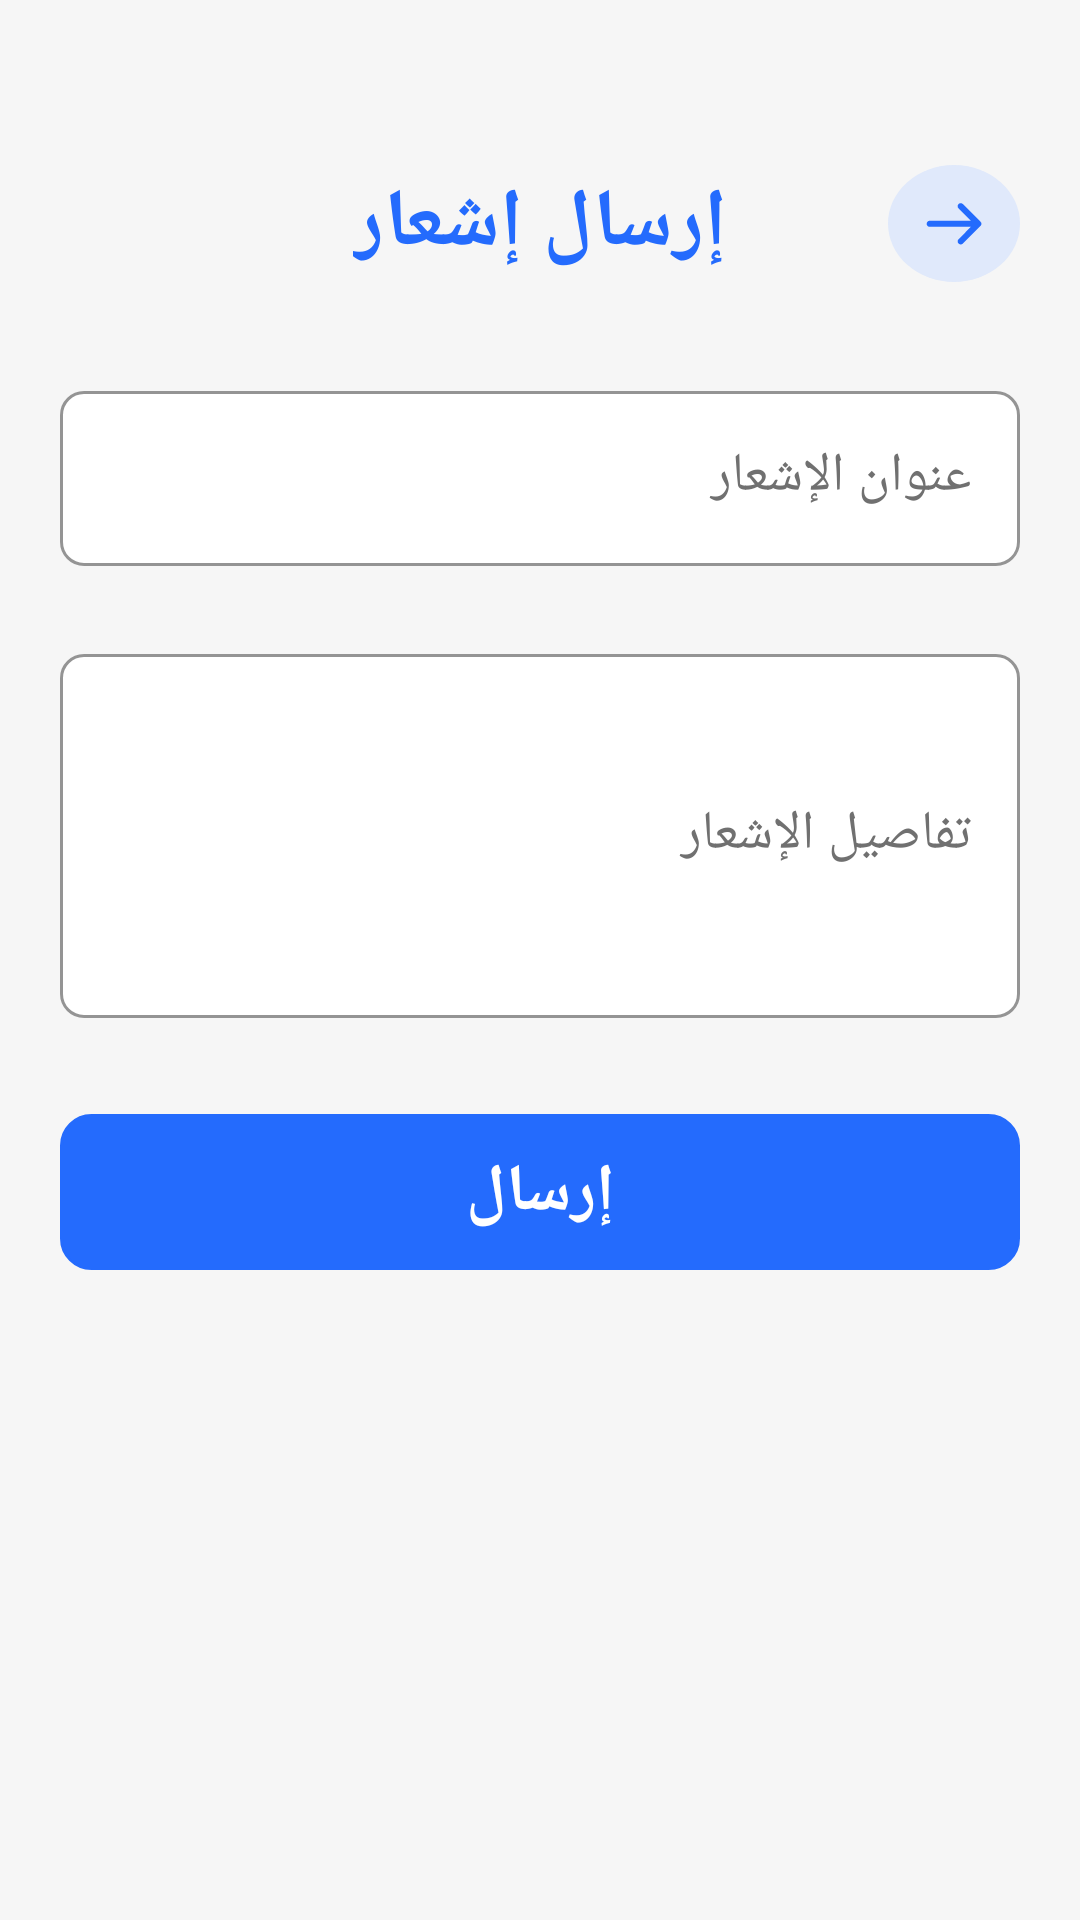

Named icons in this screenshot (1080px×1920px) and their centers, point (x, y):
arrow: point (954, 223)
